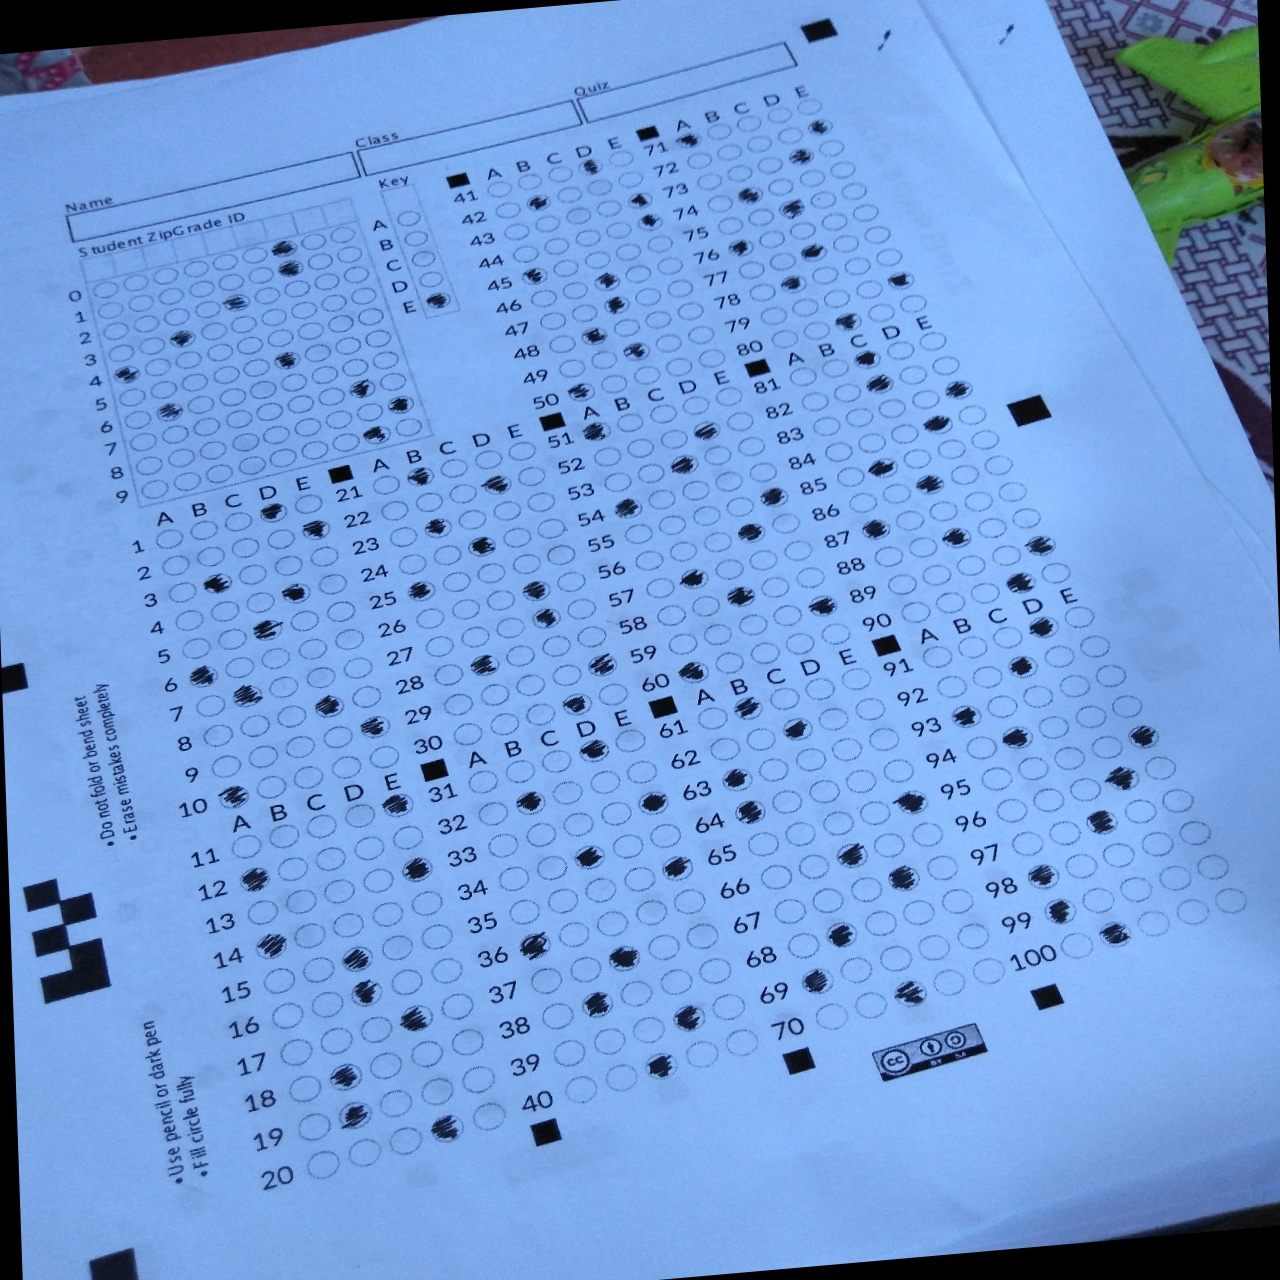not-c: (645, 931, 683, 964), (459, 1064, 498, 1097), (448, 1026, 486, 1058), (304, 1149, 342, 1182), (656, 964, 694, 996), (592, 1024, 629, 1057), (709, 990, 747, 1023), (470, 1099, 508, 1132), (409, 888, 447, 921), (377, 930, 415, 962), (358, 1013, 395, 1046), (376, 1087, 414, 1119), (318, 1026, 355, 1058), (268, 999, 306, 1032), (261, 965, 299, 998), (243, 896, 280, 928), (226, 831, 264, 864), (550, 1037, 588, 1069), (407, 1039, 445, 1070), (418, 1076, 457, 1108), (1211, 884, 1250, 915), (876, 942, 914, 974), (937, 886, 975, 918), (847, 874, 886, 906), (724, 1026, 761, 1058), (561, 1074, 598, 1107), (369, 897, 406, 930), (322, 874, 359, 907), (266, 821, 302, 853), (697, 955, 735, 987), (617, 978, 654, 1009), (538, 1001, 576, 1033), (438, 989, 476, 1021), (427, 955, 464, 987), (418, 921, 456, 953), (368, 1050, 406, 1082), (297, 1111, 334, 1143), (285, 1073, 322, 1104), (347, 1137, 384, 1169), (291, 920, 328, 952), (360, 866, 397, 898), (349, 833, 387, 865), (390, 823, 428, 855), (312, 843, 349, 874), (282, 887, 320, 919), (302, 811, 340, 843), (900, 896, 938, 927), (784, 930, 822, 961), (870, 828, 907, 859), (278, 1037, 316, 1068), (1135, 907, 1173, 938), (930, 967, 968, 998), (685, 921, 721, 953), (685, 1039, 721, 1070), (602, 1061, 639, 1092), (389, 966, 425, 998), (309, 989, 346, 1021), (301, 954, 338, 986), (331, 908, 367, 940), (273, 853, 309, 885), (342, 799, 379, 831), (1175, 896, 1211, 927), (1080, 884, 1116, 915), (915, 932, 952, 964), (629, 1015, 667, 1046), (387, 1124, 424, 1155), (1156, 862, 1193, 892), (1117, 873, 1155, 904), (971, 955, 1008, 986), (851, 990, 888, 1021), (838, 954, 876, 985), (862, 908, 899, 939), (924, 853, 961, 884), (910, 819, 947, 850), (1057, 930, 1094, 960), (813, 1002, 850, 1033), (955, 921, 992, 952), (771, 896, 808, 926), (810, 885, 846, 915), (540, 747, 574, 778), (613, 726, 647, 757), (994, 795, 1030, 824), (1122, 797, 1158, 826), (796, 852, 832, 881), (857, 798, 893, 828), (508, 896, 542, 926), (546, 885, 580, 915), (503, 756, 537, 787), (561, 809, 595, 839), (584, 874, 618, 905), (622, 864, 656, 894), (588, 768, 622, 798), (648, 821, 682, 851), (673, 887, 707, 918), (635, 897, 669, 927), (1047, 818, 1082, 847), (880, 756, 915, 785), (756, 755, 791, 784), (839, 665, 874, 694), (1088, 734, 1124, 762), (1065, 775, 1102, 803), (1008, 829, 1044, 857), (535, 853, 568, 883), (550, 777, 584, 806), (612, 832, 646, 862), (624, 757, 658, 787), (594, 908, 628, 938), (558, 920, 592, 949), (568, 954, 602, 983), (1073, 702, 1108, 730), (1051, 744, 1087, 772), (964, 734, 999, 762), (1035, 713, 1070, 741), (1016, 755, 1051, 783), (979, 765, 1014, 794), (1063, 853, 1098, 881), (1101, 840, 1136, 869), (1139, 830, 1175, 858), (1178, 818, 1213, 846), (1196, 852, 1231, 880), (821, 810, 856, 838), (843, 768, 878, 796), (806, 778, 842, 806), (770, 788, 805, 816), (829, 735, 864, 763), (867, 726, 903, 754), (853, 696, 888, 724), (815, 704, 850, 733), (744, 726, 779, 754), (707, 734, 742, 762), (767, 685, 802, 713), (803, 675, 838, 703), (701, 620, 734, 649), (600, 799, 633, 829), (530, 966, 563, 995), (712, 648, 745, 676), (524, 821, 558, 849), (990, 622, 1024, 651), (1143, 753, 1177, 781), (760, 862, 794, 890), (747, 830, 781, 858), (920, 644, 955, 670), (1056, 672, 1091, 699), (1030, 787, 1065, 813), (783, 821, 818, 847), (695, 704, 730, 731), (969, 578, 1001, 607), (899, 597, 932, 625), (934, 588, 967, 617), (818, 620, 851, 648), (736, 611, 769, 639), (622, 520, 655, 549), (712, 556, 745, 583), (644, 576, 678, 602), (622, 434, 656, 461), (535, 516, 568, 543), (474, 560, 508, 587), (433, 661, 467, 688), (350, 685, 384, 712), (304, 665, 338, 692), (181, 634, 215, 661), (173, 607, 207, 634), (207, 598, 241, 625), (222, 508, 256, 535), (316, 571, 350, 598), (486, 832, 520, 859), (971, 663, 1005, 690), (1020, 683, 1054, 710), (1110, 692, 1144, 719), (1160, 787, 1194, 813), (794, 745, 828, 772), (1041, 644, 1076, 669), (934, 673, 969, 699), (667, 629, 699, 658), (472, 445, 504, 474), (459, 622, 491, 651), (749, 640, 782, 667), (656, 602, 689, 629), (689, 592, 722, 619), (782, 537, 815, 564), (770, 509, 803, 536), (702, 529, 735, 556), (690, 503, 723, 530), (679, 477, 712, 504), (701, 443, 734, 470), (713, 468, 745, 495), (745, 459, 778, 486), (724, 493, 757, 520), (634, 459, 667, 486), (600, 469, 633, 496), (591, 444, 624, 471), (723, 409, 756, 436), (735, 433, 768, 459), (713, 383, 745, 410), (679, 392, 712, 418), (614, 408, 647, 435), (506, 437, 539, 464), (438, 454, 471, 481), (369, 471, 402, 498), (445, 481, 478, 508), (525, 490, 558, 517), (491, 498, 524, 525), (387, 523, 420, 550), (395, 551, 428, 578), (433, 542, 465, 568), (501, 525, 533, 552), (510, 550, 543, 577), (440, 567, 472, 594), (515, 672, 547, 699), (504, 644, 537, 670), (493, 617, 526, 644), (554, 568, 587, 595), (576, 624, 608, 651), (551, 662, 584, 689), (540, 633, 573, 660), (422, 633, 455, 660), (452, 721, 485, 748), (368, 744, 401, 771), (321, 724, 354, 751), (256, 774, 288, 801), (246, 743, 279, 770), (275, 704, 308, 731), (239, 713, 272, 740), (209, 754, 241, 781), (341, 654, 374, 681), (196, 693, 229, 720), (295, 636, 328, 663), (333, 626, 366, 653), (326, 597, 359, 624), (216, 626, 248, 653), (166, 578, 199, 605), (159, 552, 192, 579), (188, 516, 220, 543), (195, 544, 227, 571), (236, 561, 268, 588), (229, 535, 261, 561), (293, 491, 326, 518), (263, 525, 295, 552), (272, 552, 305, 579), (308, 542, 341, 568), (498, 865, 531, 892), (794, 565, 828, 591), (377, 497, 411, 523), (411, 489, 445, 515), (515, 464, 549, 490), (983, 694, 1017, 720), (901, 445, 933, 472), (990, 542, 1022, 568), (784, 631, 816, 658), (771, 602, 803, 629), (658, 510, 689, 537), (646, 485, 678, 512), (658, 425, 689, 452), (647, 400, 679, 427), (457, 506, 489, 533), (545, 542, 577, 568), (449, 595, 481, 622), (479, 681, 511, 708), (565, 595, 597, 622), (598, 681, 629, 708), (292, 765, 324, 792), (268, 674, 300, 701), (260, 645, 292, 672), (244, 590, 275, 617), (477, 799, 509, 826), (876, 396, 908, 422), (897, 363, 930, 389), (1040, 559, 1073, 585), (747, 547, 779, 573), (632, 549, 665, 574), (415, 605, 448, 631), (488, 710, 520, 736), (523, 702, 556, 728), (484, 587, 517, 613), (441, 692, 474, 717), (329, 755, 362, 781), (282, 734, 315, 760), (202, 722, 234, 748), (224, 654, 257, 680), (290, 608, 322, 634), (1078, 633, 1111, 659), (1094, 662, 1126, 688), (769, 325, 801, 350), (880, 481, 912, 506), (888, 422, 920, 448), (857, 430, 888, 456), (822, 438, 853, 464), (911, 387, 942, 413), (798, 388, 830, 414), (760, 576, 791, 601), (667, 539, 699, 565), (152, 526, 184, 552), (467, 768, 498, 794), (931, 353, 964, 377), (956, 634, 989, 659), (316, 384, 347, 410), (811, 414, 842, 440), (844, 406, 874, 431), (885, 338, 915, 363), (821, 356, 851, 382), (831, 381, 862, 407), (873, 543, 904, 568), (907, 535, 938, 560), (921, 561, 952, 587), (898, 291, 930, 315), (918, 328, 949, 353), (968, 428, 1000, 452), (982, 452, 1014, 477), (995, 479, 1027, 504), (893, 508, 925, 532), (787, 365, 818, 389), (626, 189, 658, 213), (1063, 604, 1092, 629), (293, 415, 324, 440), (324, 408, 354, 433), (333, 333, 363, 358), (198, 319, 229, 343), (173, 347, 204, 372), (237, 454, 267, 478), (204, 462, 234, 486), (542, 234, 572, 259), (622, 263, 653, 287), (663, 277, 694, 301), (585, 176, 615, 200), (563, 204, 593, 229), (515, 170, 545, 195), (802, 316, 832, 341), (809, 263, 839, 287), (976, 516, 1007, 540), (949, 462, 980, 486), (937, 437, 967, 462), (956, 554, 987, 579), (552, 256, 583, 280), (339, 355, 370, 379), (265, 326, 297, 349), (956, 403, 988, 427), (1010, 506, 1042, 530), (595, 196, 625, 220), (964, 488, 993, 512), (887, 571, 917, 595), (309, 365, 340, 388), (302, 342, 333, 366), (295, 320, 326, 343), (325, 312, 355, 335), (319, 291, 349, 314), (290, 299, 320, 322), (229, 313, 259, 336), (107, 341, 137, 365), (123, 408, 154, 431), (224, 407, 254, 430), (134, 454, 164, 477), (653, 332, 683, 355), (611, 316, 641, 340), (645, 232, 675, 256), (633, 285, 663, 308), (760, 304, 790, 327), (862, 224, 892, 247), (873, 245, 904, 268), (847, 491, 878, 515), (835, 465, 865, 489), (576, 155, 606, 178), (787, 219, 818, 241), (866, 301, 898, 324), (928, 501, 960, 523), (617, 168, 645, 192), (131, 313, 161, 336), (253, 284, 282, 307), (236, 334, 265, 358), (179, 372, 209, 395), (247, 377, 277, 401), (286, 392, 315, 415), (256, 399, 285, 422), (192, 415, 222, 438), (166, 445, 196, 469), (268, 445, 298, 469), (529, 286, 558, 309), (599, 372, 628, 395), (644, 308, 673, 332), (561, 279, 591, 302), (636, 211, 666, 234), (573, 227, 602, 251), (583, 248, 612, 272), (675, 300, 704, 324), (554, 184, 584, 207), (737, 259, 767, 282), (525, 191, 554, 215), (101, 320, 131, 342), (341, 263, 372, 285), (149, 379, 179, 401), (210, 365, 240, 387), (279, 372, 309, 394), (161, 423, 191, 445), (128, 431, 158, 454), (588, 349, 619, 372), (686, 325, 716, 347), (568, 302, 599, 325), (602, 219, 633, 241), (613, 240, 644, 263), (531, 212, 561, 234), (851, 202, 881, 224), (819, 211, 850, 233), (767, 250, 797, 272), (748, 280, 778, 302), (790, 297, 821, 319), (138, 334, 166, 358), (118, 384, 147, 408), (261, 423, 290, 447), (173, 470, 202, 493), (161, 306, 190, 328), (312, 271, 341, 293), (299, 231, 328, 253), (363, 327, 393, 349), (370, 349, 400, 372), (394, 416, 423, 438), (260, 306, 290, 328), (205, 341, 234, 363), (143, 355, 172, 377), (185, 393, 215, 415), (217, 386, 246, 408), (416, 268, 445, 291), (655, 256, 685, 278), (822, 287, 851, 309), (855, 278, 884, 300), (182, 258, 212, 279), (300, 440, 331, 461), (197, 440, 227, 461), (230, 431, 260, 452), (510, 244, 540, 265), (557, 358, 587, 379), (842, 256, 872, 277), (336, 244, 365, 266), (493, 199, 522, 222), (697, 348, 726, 370), (704, 121, 733, 143), (795, 96, 823, 118), (777, 124, 805, 147), (686, 150, 714, 172), (757, 154, 785, 176), (817, 137, 845, 159), (799, 166, 828, 189), (765, 176, 794, 198), (747, 207, 775, 230), (809, 189, 837, 211), (91, 279, 121, 300), (188, 278, 217, 299), (127, 293, 156, 314), (305, 251, 334, 272), (328, 225, 358, 246), (349, 285, 379, 306), (355, 401, 384, 422), (241, 358, 271, 379), (139, 479, 169, 501), (394, 207, 423, 229), (402, 229, 431, 250), (485, 179, 515, 200), (502, 222, 531, 243), (632, 365, 661, 386), (663, 356, 693, 377), (606, 148, 635, 169), (828, 159, 857, 181), (757, 229, 787, 250), (831, 233, 860, 254), (150, 266, 181, 286), (331, 433, 361, 452), (358, 305, 384, 327), (547, 163, 574, 185), (745, 132, 772, 155), (726, 162, 753, 184), (240, 245, 268, 266), (218, 271, 246, 292), (193, 299, 222, 320), (282, 278, 311, 299), (539, 309, 567, 331), (549, 334, 577, 355), (765, 105, 794, 127), (704, 193, 733, 215), (716, 215, 744, 236), (840, 181, 869, 202), (246, 265, 275, 285), (409, 248, 438, 268), (715, 142, 742, 163), (696, 172, 723, 193), (211, 252, 239, 272), (97, 300, 125, 320), (379, 372, 407, 392), (120, 274, 149, 293), (157, 287, 186, 306), (735, 113, 762, 132)
taken-c: (428, 1111, 467, 1146), (605, 941, 644, 976), (327, 1058, 365, 1094), (336, 1096, 374, 1131), (642, 1049, 680, 1084), (516, 930, 554, 964), (670, 1002, 708, 1036), (580, 988, 618, 1022), (885, 863, 924, 896), (823, 917, 862, 949), (797, 965, 836, 998), (891, 979, 930, 1012), (833, 840, 871, 873), (1042, 896, 1080, 928), (1105, 763, 1143, 796), (1125, 720, 1163, 753), (1095, 918, 1133, 949), (349, 976, 384, 1010), (399, 1002, 435, 1035), (1083, 806, 1121, 838), (340, 944, 376, 975), (635, 789, 672, 821), (512, 787, 549, 818), (893, 787, 930, 818), (1024, 862, 1061, 893), (559, 690, 597, 721), (660, 853, 696, 884), (576, 736, 612, 767), (467, 651, 503, 681), (719, 764, 755, 795), (401, 855, 436, 885), (254, 930, 290, 960), (731, 796, 767, 826), (572, 840, 608, 870), (586, 651, 622, 680), (1028, 611, 1062, 641), (236, 865, 271, 894), (999, 723, 1034, 753), (910, 472, 946, 501), (520, 577, 554, 606), (731, 694, 765, 723), (949, 702, 983, 731), (1005, 651, 1039, 680), (857, 515, 892, 543), (865, 455, 900, 483), (921, 411, 956, 440), (782, 715, 815, 744), (406, 463, 440, 491), (1024, 531, 1058, 559), (940, 525, 975, 552), (422, 515, 455, 543), (676, 658, 709, 686), (358, 714, 392, 741), (481, 472, 515, 499), (1005, 568, 1039, 595), (941, 377, 975, 404), (851, 347, 885, 374), (188, 663, 220, 690), (232, 683, 265, 710), (311, 694, 343, 721), (217, 783, 250, 810), (530, 605, 563, 632), (406, 577, 438, 604), (464, 535, 497, 561), (579, 418, 612, 445), (690, 416, 723, 443), (565, 379, 598, 406), (577, 324, 610, 350), (865, 372, 898, 399), (252, 617, 284, 644), (383, 791, 415, 818), (668, 451, 700, 478), (202, 571, 234, 597), (611, 495, 644, 520), (678, 566, 710, 592), (724, 583, 757, 608), (806, 593, 839, 619), (723, 236, 756, 261), (518, 263, 549, 290), (620, 339, 652, 365), (517, 263, 549, 288), (279, 581, 312, 606), (736, 520, 769, 545), (831, 309, 864, 334), (884, 268, 917, 293), (777, 272, 810, 297), (600, 293, 631, 319), (776, 196, 806, 222), (758, 485, 790, 510), (785, 144, 817, 169), (796, 241, 829, 265), (733, 184, 765, 207), (384, 392, 415, 416), (592, 271, 622, 295), (805, 115, 836, 139), (673, 128, 703, 152), (277, 256, 306, 280), (222, 291, 251, 315), (155, 400, 184, 424), (258, 501, 288, 524), (301, 518, 332, 542), (346, 377, 377, 400), (273, 348, 302, 372), (362, 423, 392, 447), (169, 327, 197, 350), (268, 237, 298, 259), (424, 290, 452, 312), (114, 362, 141, 384)
